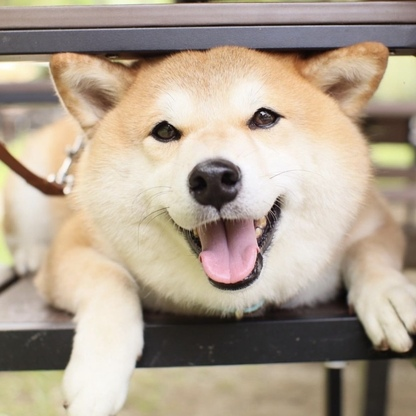shiba: (25, 40, 414, 416)
